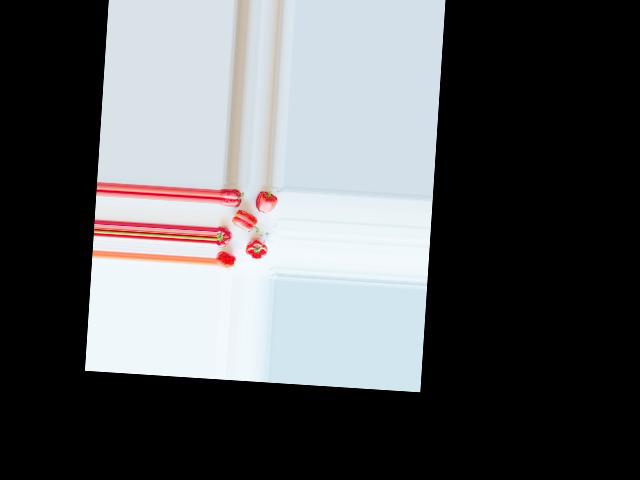bell_pepper: (216, 225, 233, 247)
